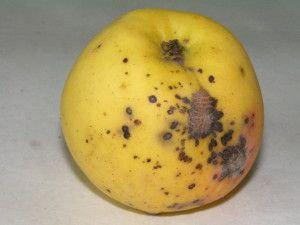Apple: (61, 9, 263, 214)
